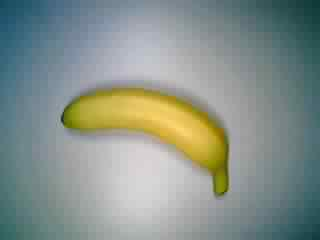banana: (57, 83, 238, 202)
